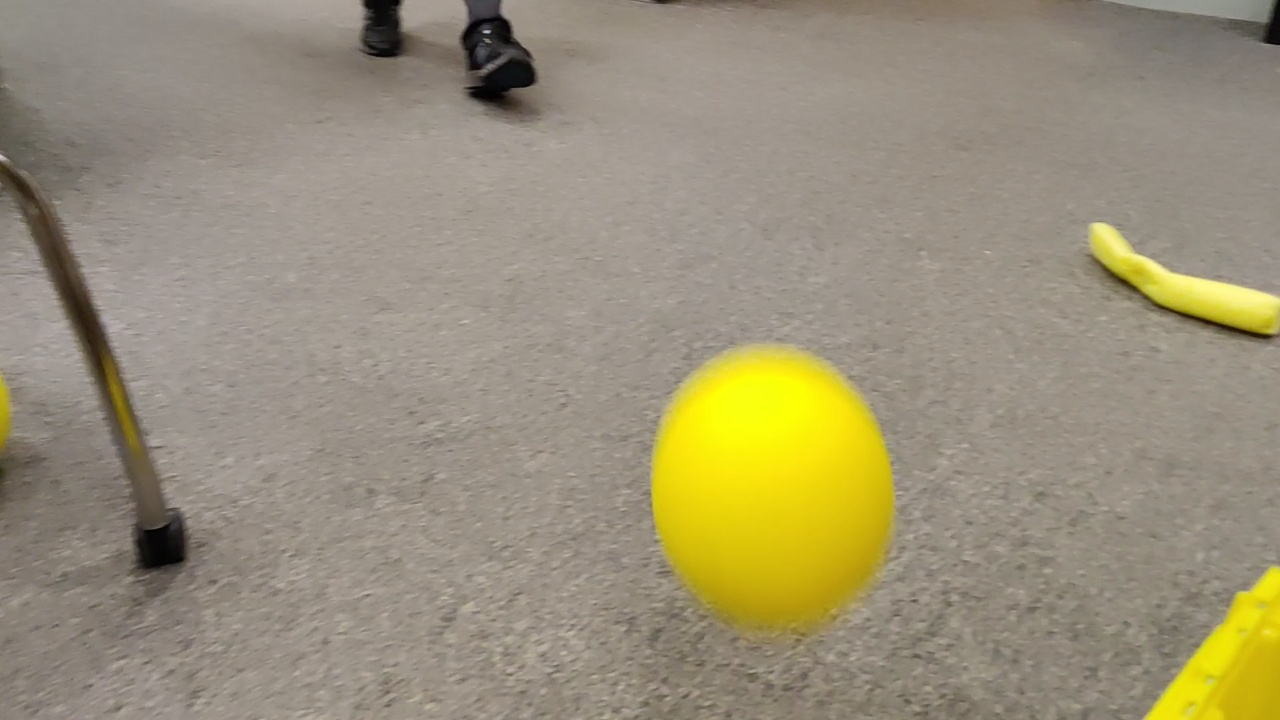Ball: (651, 344, 898, 633)
